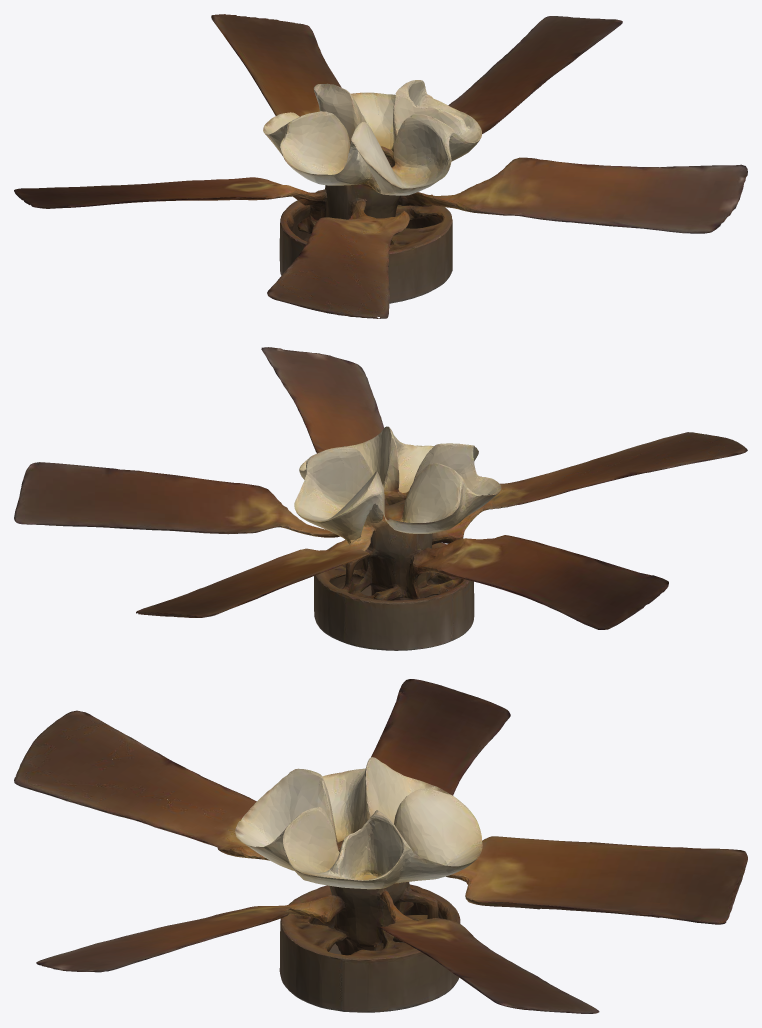
The model's file is brown_ceiling_fan_000.glb.
3 renders of one model, top to bottom at view 1: azimuth 30°, elevation 25°; view 2: azimuth 150°, elevation 25°; view 3: azimuth 270°, elevation 25°, orthographic. The views are drawn at different scales.
Visible parts, largest first — view 1: phase2_final_brown_ceiling_fan_000.obj; view 2: phase2_final_brown_ceiling_fan_000.obj; view 3: phase2_final_brown_ceiling_fan_000.obj.
Boxes of the visible parts, left/top/right/bottom form: phase2_final_brown_ceiling_fan_000.obj: left=14, top=14, right=747, bottom=318; phase2_final_brown_ceiling_fan_000.obj: left=14, top=347, right=747, bottom=650; phase2_final_brown_ceiling_fan_000.obj: left=14, top=679, right=747, bottom=1013.
Size of the model in its own units: 0.6758 by 0.1768 by 0.6335.
Materials: 1 (1 with a texture image).
